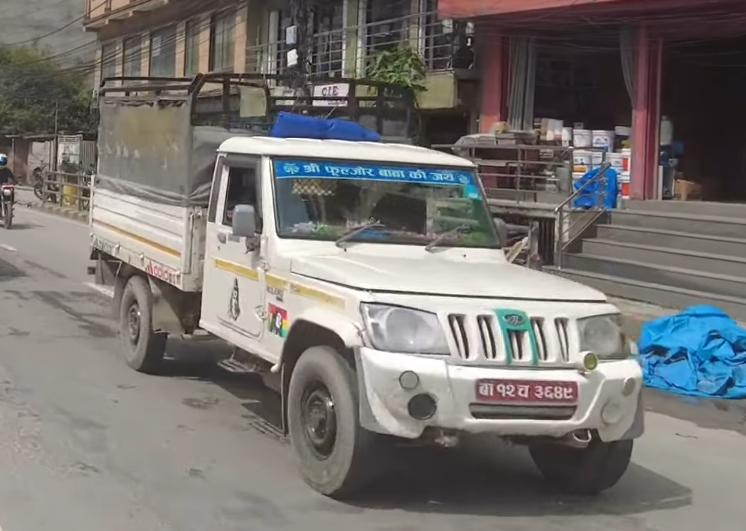bike: (0, 139, 21, 232)
transport_vehicle: (98, 63, 642, 508)
